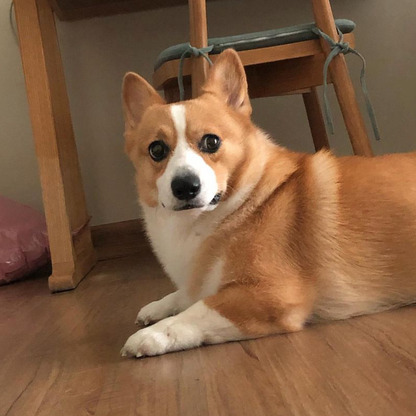Corgi: (97, 46, 397, 356)
